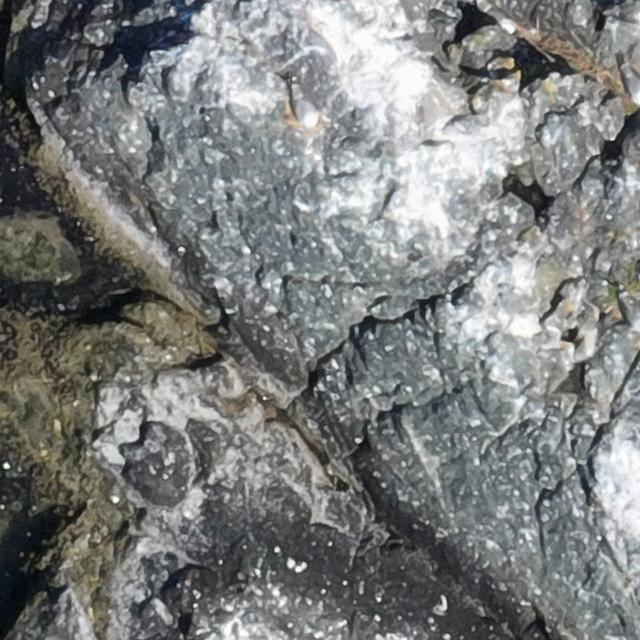umineko: (296, 91, 320, 129), (624, 71, 640, 104)
